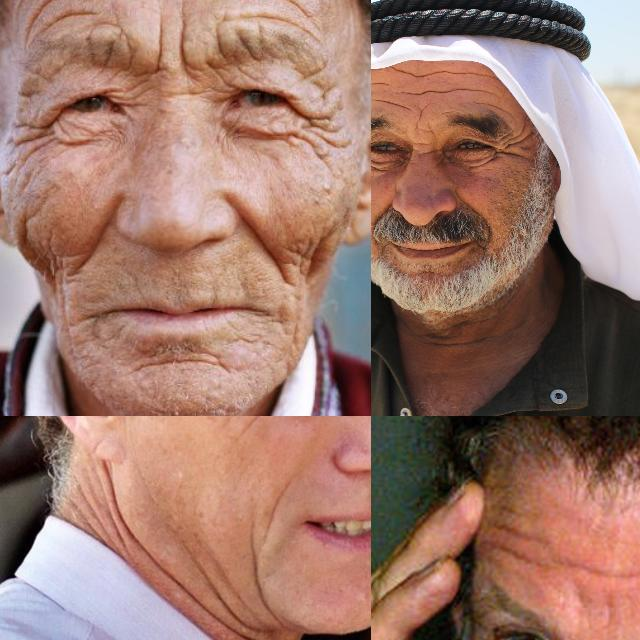chin: (128, 348, 230, 376)
crows_feet: (304, 98, 342, 154), (8, 117, 49, 151), (502, 132, 528, 162)
forehead: (570, 552, 638, 596), (494, 512, 540, 566), (23, 0, 102, 23), (245, 8, 317, 32), (446, 79, 496, 103), (398, 64, 444, 82), (449, 64, 487, 84), (406, 85, 446, 102), (373, 96, 413, 112), (487, 98, 517, 118), (125, 0, 307, 3), (371, 77, 392, 93)
frown_line: (150, 26, 167, 70), (178, 27, 192, 72), (413, 138, 437, 160), (412, 115, 433, 138)
gummy_smile: (238, 210, 288, 268), (73, 206, 117, 258), (260, 474, 286, 542), (459, 194, 487, 218), (374, 204, 392, 222)
masseter: (247, 559, 273, 619), (34, 240, 62, 292), (298, 234, 324, 286)
